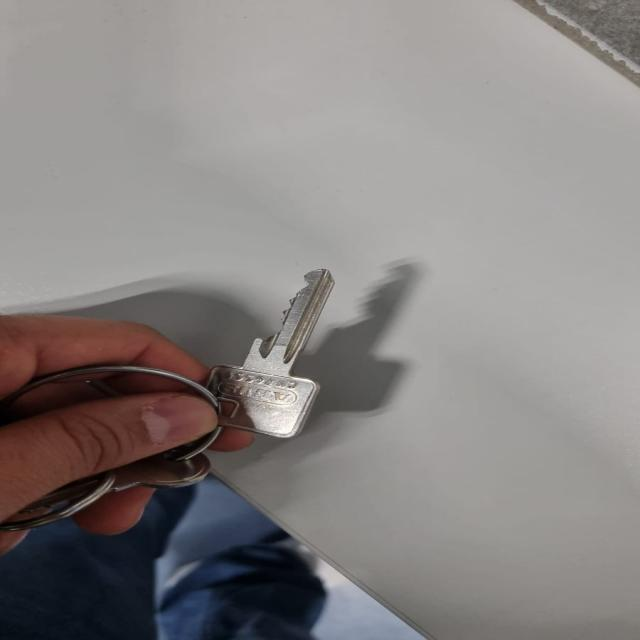Key: (209, 270, 334, 438)
